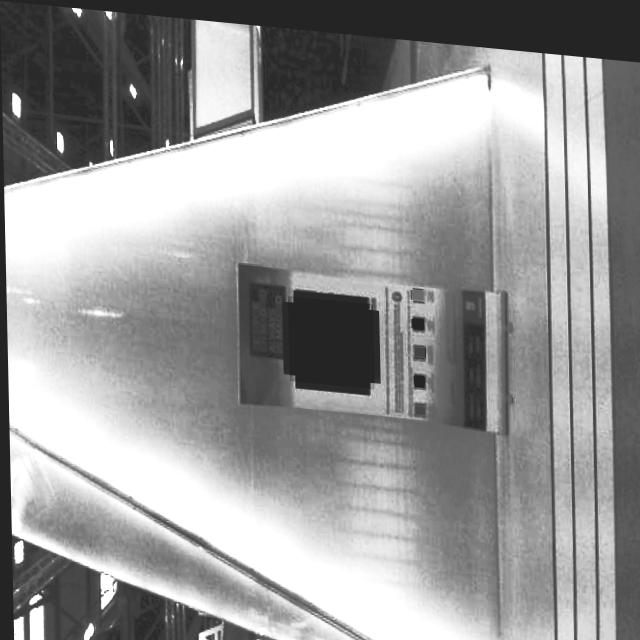qr_code: (287, 289, 373, 381), (410, 280, 424, 293), (412, 337, 424, 349), (411, 309, 423, 321), (413, 395, 424, 407), (413, 366, 423, 379)
